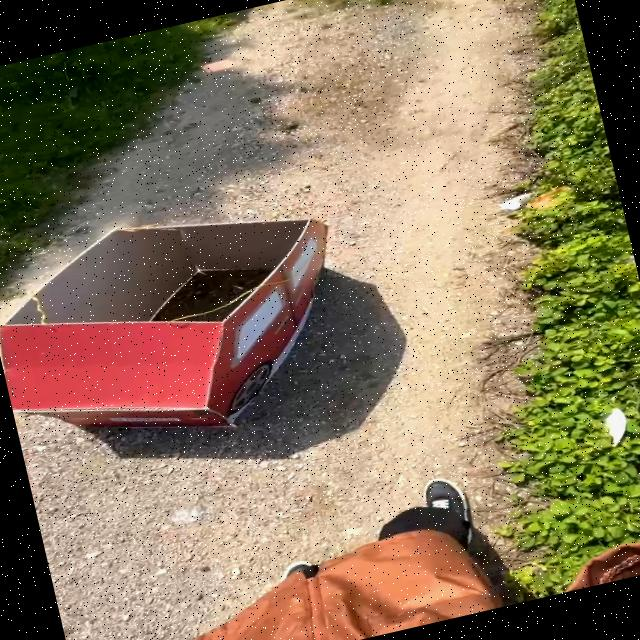red_car: (0, 160, 425, 482)
